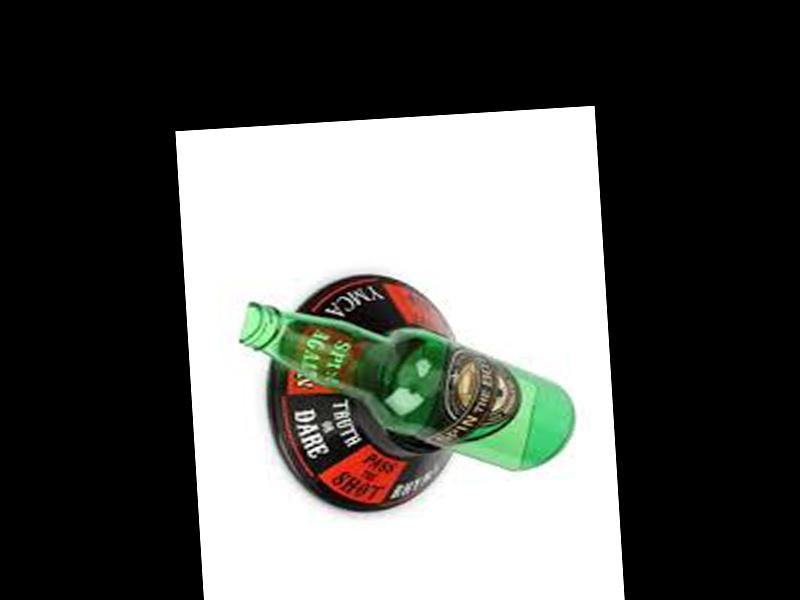Beer: (236, 285, 577, 489)
